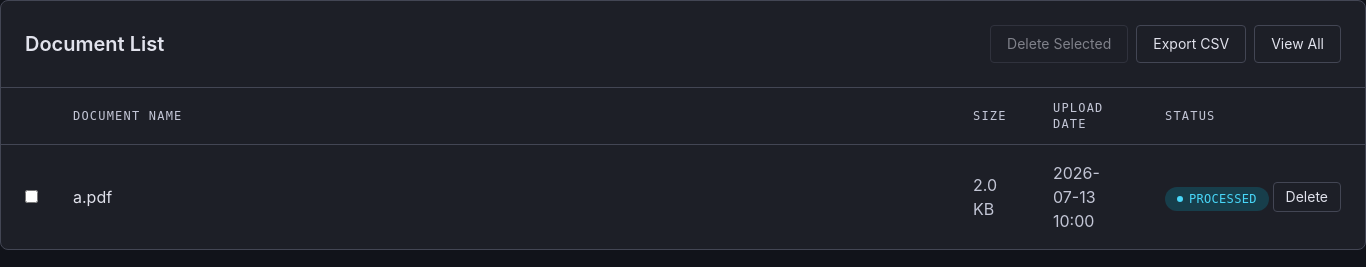
Test: DocumentList deletion (US2: bulk delete) › disables "Delete Selected" until at least one row is checked
Check: the button "Delete Selected" is disabled, box x1=990 y1=25 x2=1128 y2=63
What coordinates should you click on to do the following:
click the checkbox named "Select a.pdf"
I would click on:
 (32, 196)
Its box is x1=25 y1=190 x2=38 y2=203.
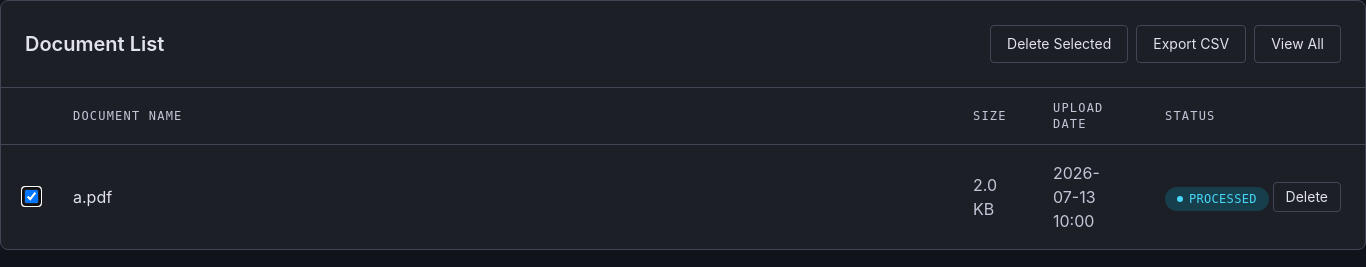
Check: the button "Delete Selected" is enabled, box x1=990 y1=25 x2=1128 y2=63
